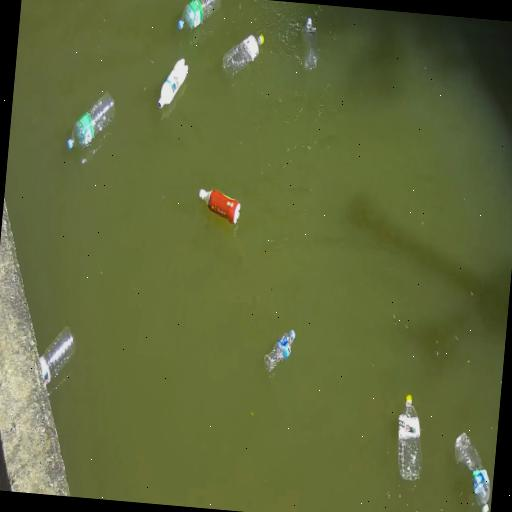plastic: (454, 433, 489, 511), (66, 92, 114, 148), (397, 395, 420, 481), (39, 327, 73, 385), (222, 34, 263, 76), (157, 58, 187, 109), (198, 189, 239, 225), (264, 330, 294, 372), (177, 0, 219, 29), (301, 18, 317, 71)
